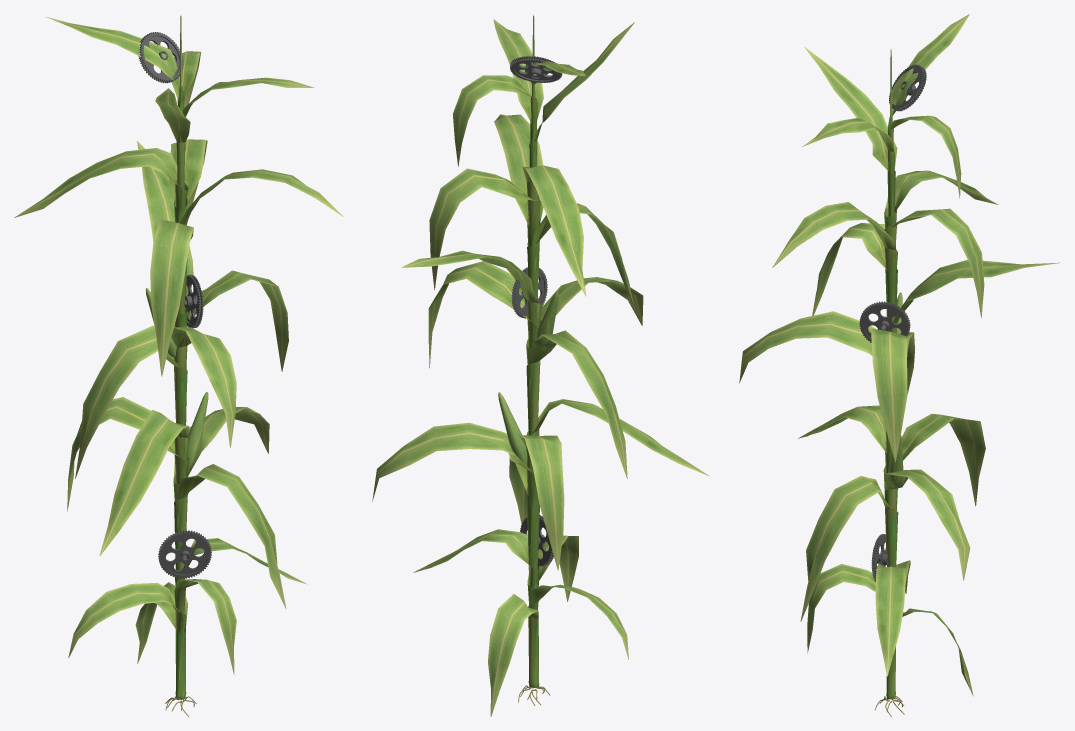
File: fruits.fbx
3 renders of one model, left to right at view 1: azimuth 30°, elevation 25°; view 2: azimuth 150°, elevation 25°; view 3: azimuth 270°, elevation 25°, orthographic. The views are drawn at different scales.
Visible parts, largest first — view 1: Plane.013, Plane.016, Plane.020, Plane.012, Plane.019, Plane.021, Plane.011, Plane.018, Plane.017, Plane.025, Plane.008, Plane.014 (+12 smaller); view 2: Plane.015, Plane.016, Plane.021, Plane.008, Plane.014, Plane.022, Plane.023, Plane.018, Plane.026, Plane.017, Plane.012, Plane.027 (+12 smaller); view 3: Plane.012, Plane.018, Plane.019, Plane.014, Plane.024, Plane.015, Plane.009, Plane.023, Plane.020, Plane.022, Plane.017, Plane.025 (+8 smaller).
Boxes of the visible parts, <box> form: Plane.013: <box>99,410,189,555</box>; Plane.016: <box>75,325,187,478</box>; Plane.020: <box>150,219,193,376</box>; Plane.012: <box>174,464,286,608</box>; Plane.019: <box>171,327,236,447</box>; Plane.021: <box>14,148,188,217</box>; Plane.011: <box>68,582,185,657</box>; Plane.018: <box>174,270,288,371</box>; Plane.017: <box>137,141,193,327</box>; Plane.025: <box>45,16,184,103</box>; Plane.008: <box>135,582,187,699</box>; Plane.014: <box>67,397,188,511</box>; Plane.015: <box>372,422,537,501</box>; Plane.016: <box>526,330,627,478</box>; Plane.021: <box>522,165,586,296</box>; Plane.008: <box>488,594,539,716</box>; Plane.014: <box>519,435,564,569</box>; Plane.022: <box>429,168,540,289</box>; Plane.023: <box>494,114,543,247</box>; Plane.018: <box>428,261,541,368</box>; Plane.026: <box>453,75,537,166</box>; Plane.017: <box>401,250,541,325</box>; Plane.012: <box>509,458,539,569</box>; Plane.027: <box>493,19,543,144</box>; Plane.012: <box>800,476,898,621</box>; Plane.018: <box>871,328,907,462</box>; Plane.019: <box>739,311,876,383</box>; Plane.014: <box>883,413,985,506</box>; Plane.024: <box>804,47,897,216</box>; Plane.015: <box>884,469,970,580</box>; Plane.009: <box>875,564,905,676</box>; Plane.023: <box>772,202,897,274</box>; Plane.020: <box>812,223,897,321</box>; Plane.022: <box>884,208,984,318</box>; Plane.017: <box>891,259,1060,333</box>; Plane.025: <box>887,14,969,134</box>.
Size of the model in its own units: 1.57 by 3.56 by 1.37.
5 materials, 2 textured.
